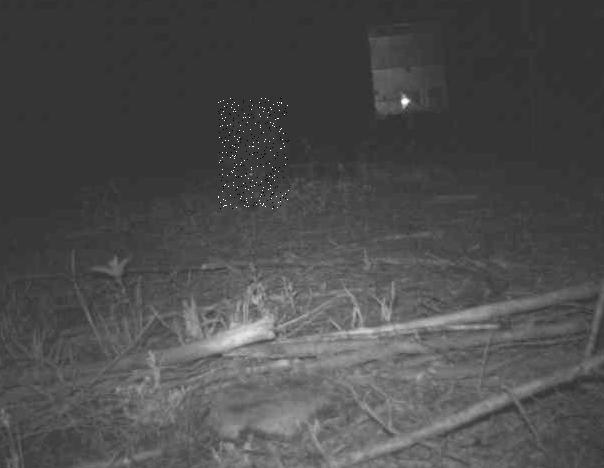Hog: (218, 99, 289, 210)
